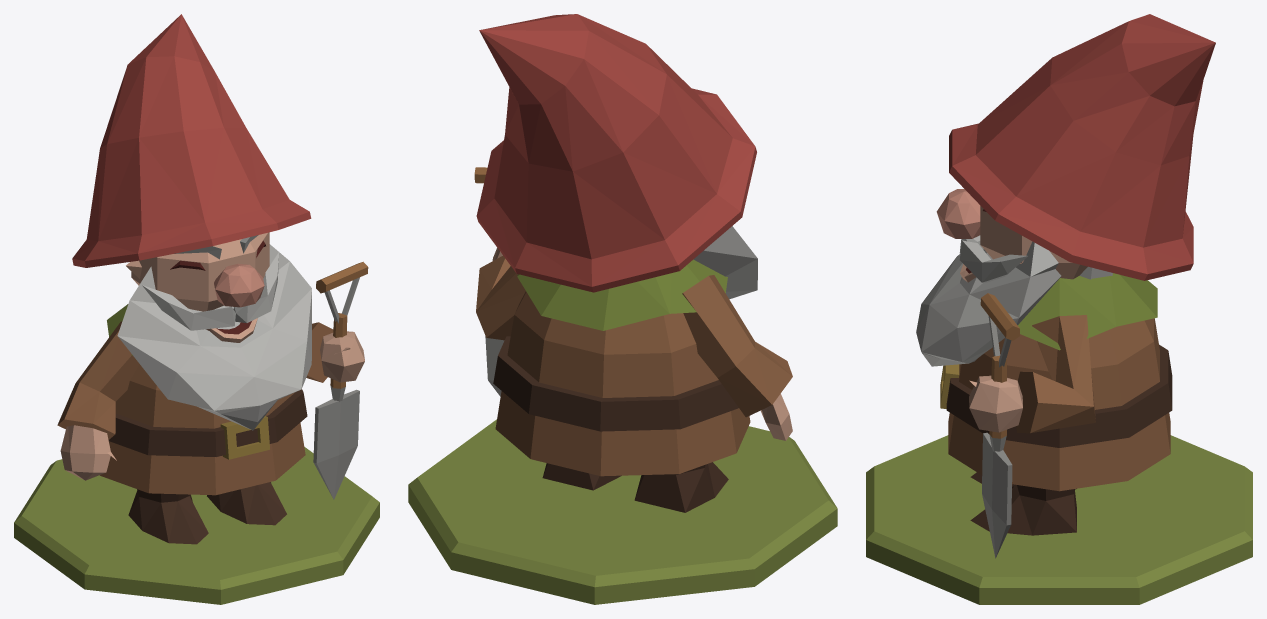
Rendered from frontyard-gnome-997876.glb.
3 renders of one model, left to right at view 1: azimuth 30°, elevation 25°; view 2: azimuth 150°, elevation 25°; view 3: azimuth 270°, elevation 25°, orthographic. The views are drawn at different scales.
Parts seen in each view (by area): view 1: gnome-body, spade-mesh; view 2: gnome-body, spade-mesh; view 3: gnome-body, spade-mesh.
Part boxes in pixels (box(x1,y1,x2,y2)): gnome-body: box(14, 14, 379, 604); spade-mesh: box(313, 261, 368, 499); gnome-body: box(408, 14, 837, 604); spade-mesh: box(474, 167, 504, 396); gnome-body: box(866, 14, 1252, 604); spade-mesh: box(980, 293, 1019, 558).
Size of the model in its own units: 0.2865 by 0.417 by 0.2864.
